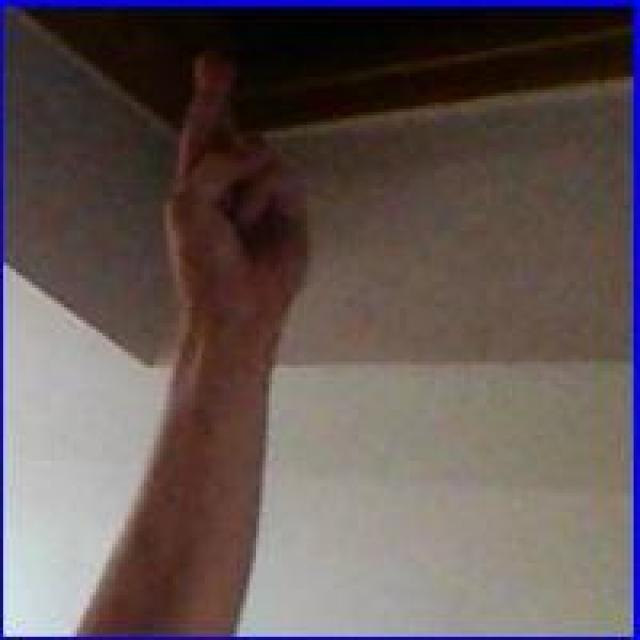R: (147, 24, 320, 370)
